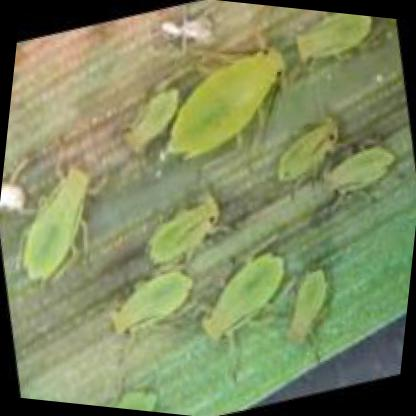schizaphis graminum: (165, 46, 284, 156), (20, 170, 88, 282), (201, 256, 284, 346), (109, 272, 188, 338), (146, 196, 221, 262), (276, 119, 337, 181), (121, 88, 175, 155), (325, 142, 395, 193), (285, 271, 326, 344)
